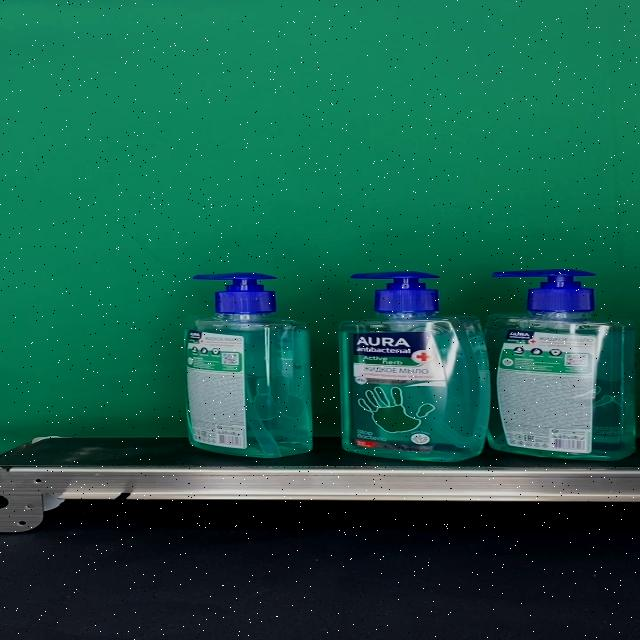Bottle: (483, 269, 635, 461), (338, 272, 491, 462), (182, 273, 314, 458)
Cap: (492, 269, 596, 312), (351, 272, 441, 313), (191, 272, 277, 313)
